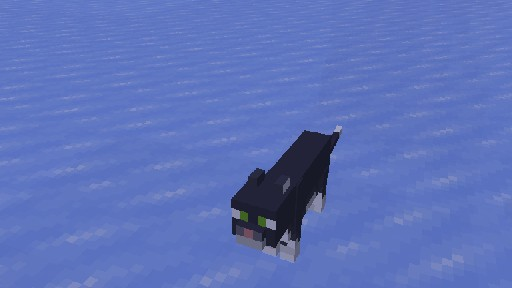cat: (230, 124, 342, 263)
